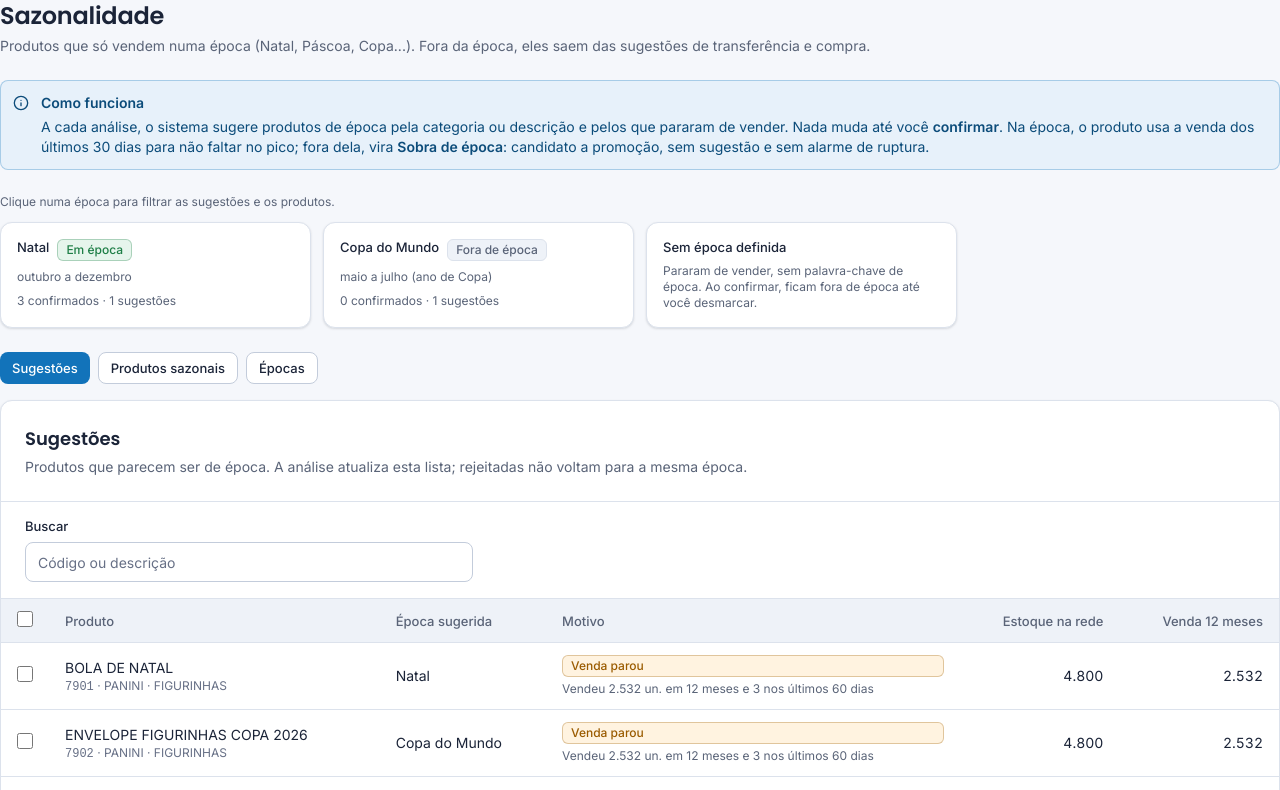
Test: Sazonalidade › produtos sazonais mostram se estão fora de época
The image size is (1280, 790).
Click the button "Produtos sazonais": (168, 368) [98,352,238,384]
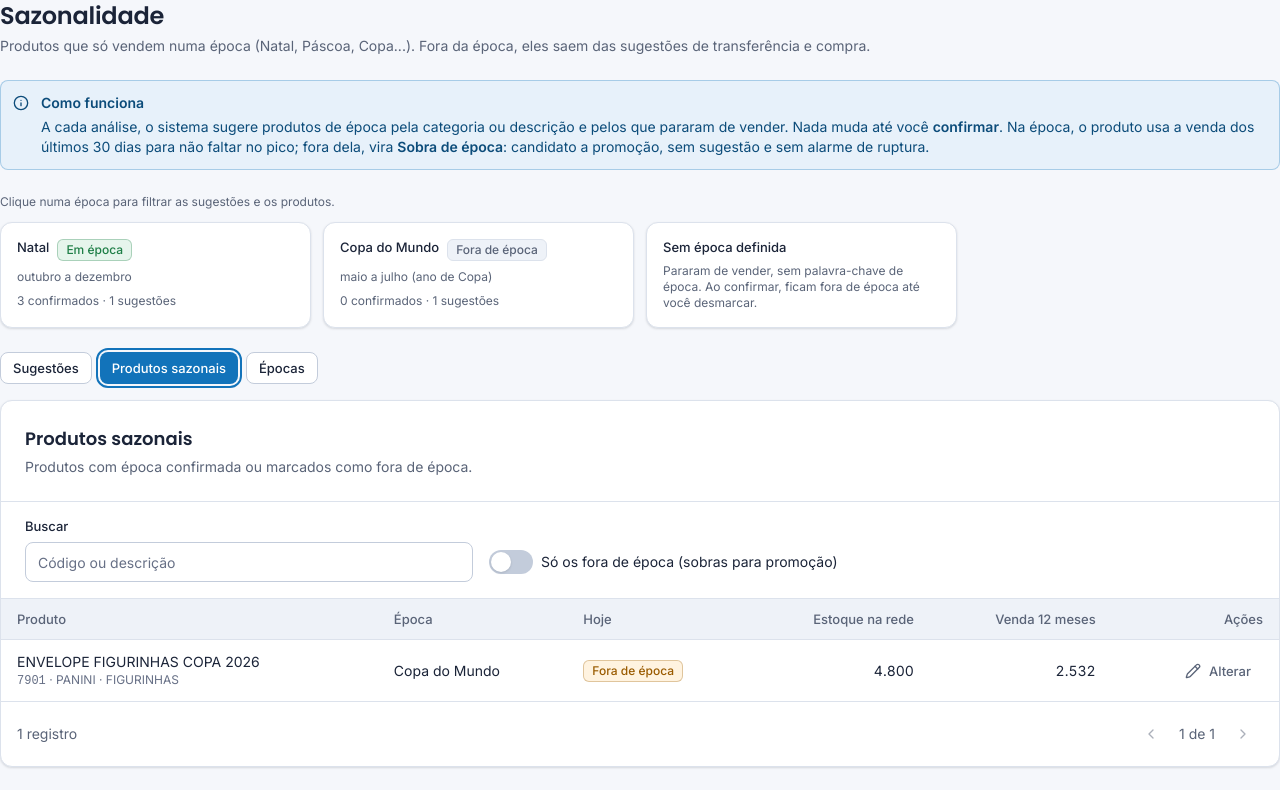
Expected: the text "ENVELOPE FIGURINHAS COPA 2026" is shown, [17,653,260,670]
Expected: the text "Fora de época" in the row of "ENVELOPE FIGURINHAS COPA 2026" is shown, [592,662,674,678]
